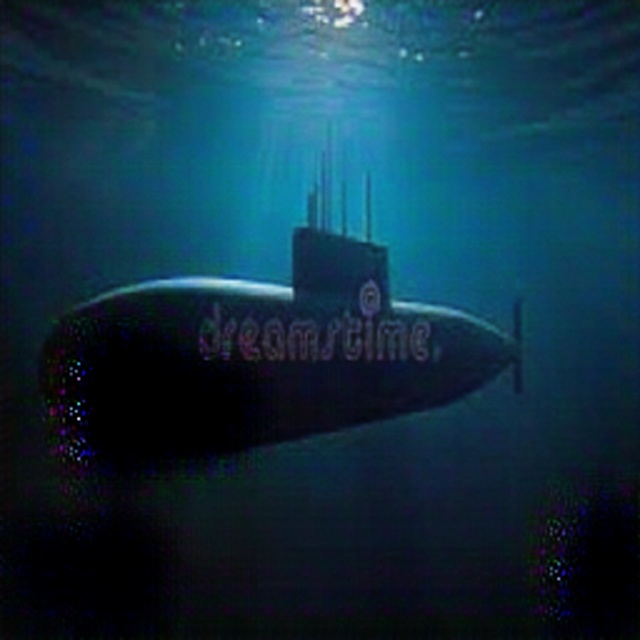submarine: (40, 208, 532, 476)
